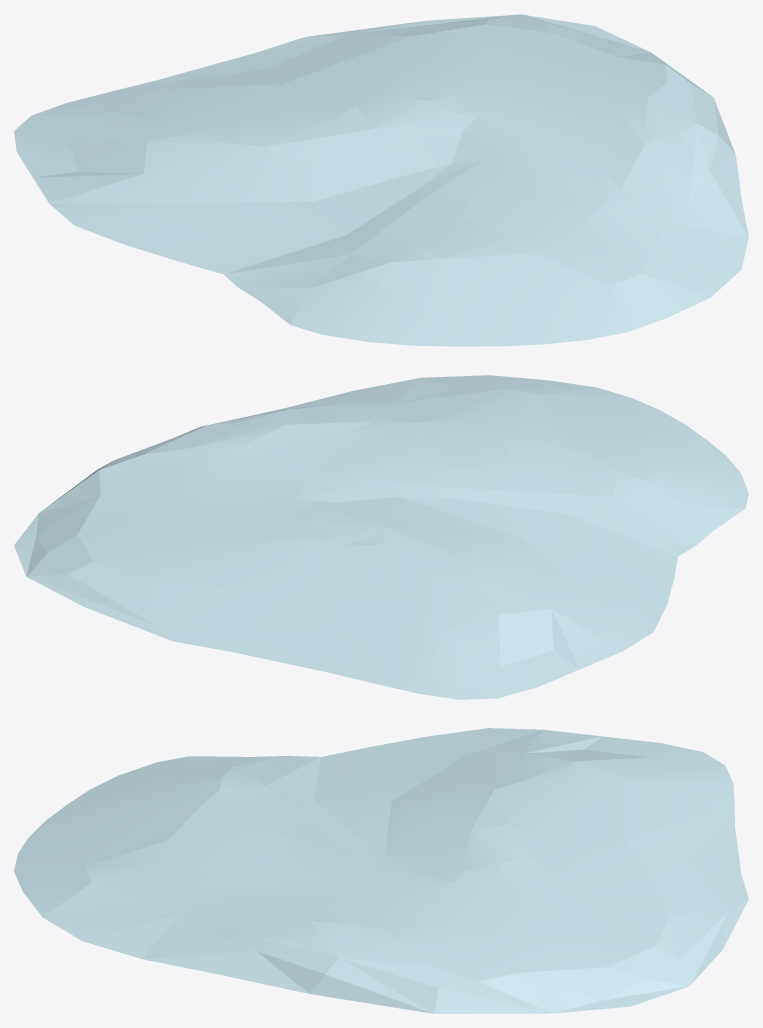
The model's file is Tileset_Nieve04.glb.
3 renders of one model, top to bottom at view 1: azimuth 30°, elevation 25°; view 2: azimuth 150°, elevation 25°; view 3: azimuth 270°, elevation 25°, orthographic. The views are drawn at different scales.
Parts seen in each view (by area): view 1: SM_Env_DirtMound_03_Snow; view 2: SM_Env_DirtMound_03_Snow; view 3: SM_Env_DirtMound_03_Snow.
Part boxes in pixels (box(x1,y1,x2,y2)): SM_Env_DirtMound_03_Snow: box(14, 14, 748, 346); SM_Env_DirtMound_03_Snow: box(14, 375, 748, 699); SM_Env_DirtMound_03_Snow: box(14, 728, 748, 1013).
Bounding box in the file's own units: 16.22 × 0.8408 × 17.62.
1 material, 1 textured.
